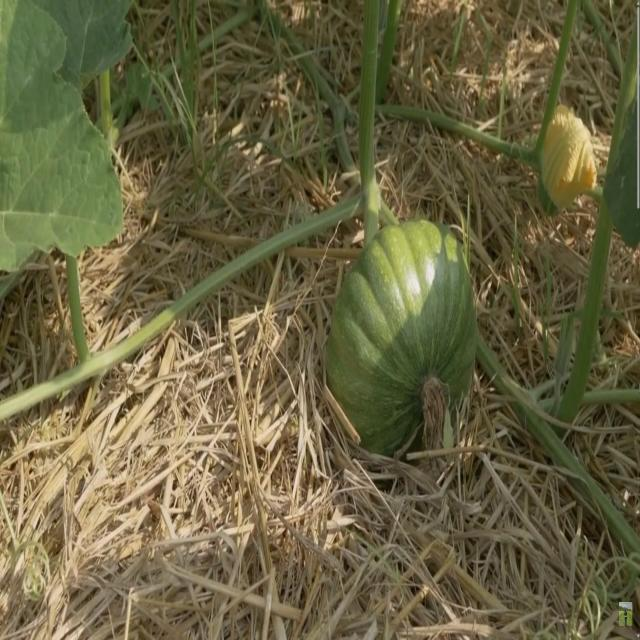squash: (326, 217, 479, 454)
